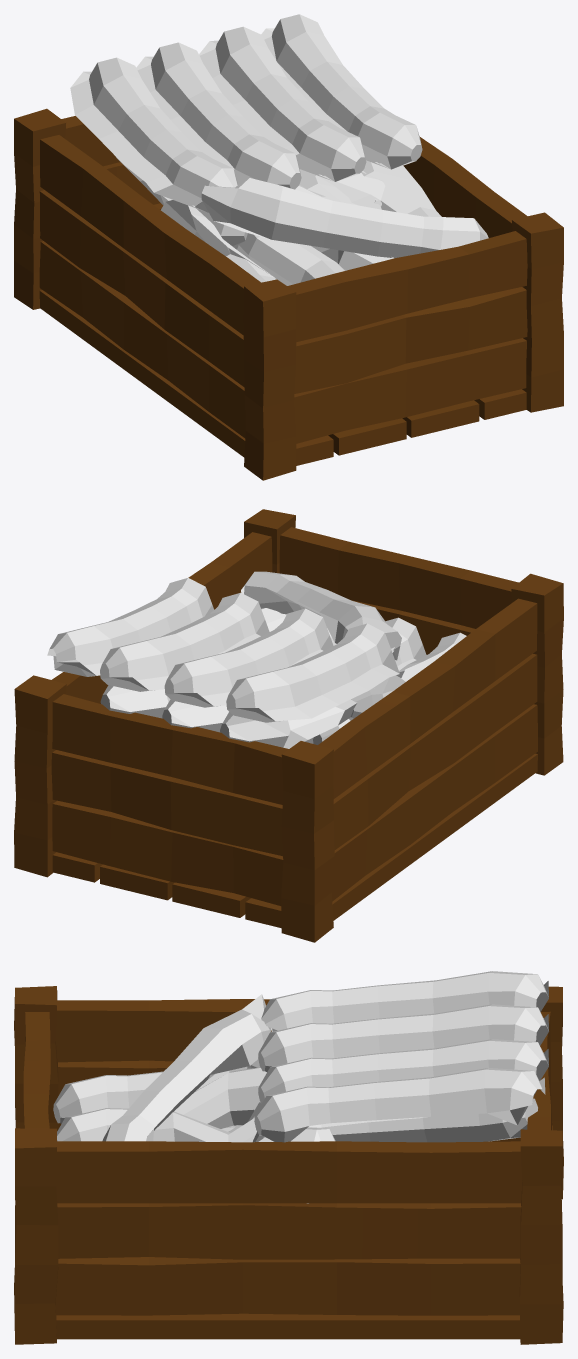
Rendered from agurkkasse.fbx.
3 views of the same model, one above another, from view 1: azimuth 30°, elevation 25°; view 2: azimuth 150°, elevation 25°; view 3: azimuth 270°, elevation 25° (orthographic). The views are drawn at different scales.
Parts seen in each view (by area): view 1: Cylinder, Cube.022, Cube.011, Cube.012, Cube.013, Cube.021, Cube.020, Cube.014, Cube.004, Cube.006, Cube.003, Cube.010 (+5 smaller); view 2: Cylinder, Cube.022, Cube.017, Cube.011, Cube.018, Cube.019, Cube.021, Cube.020, Cube.006, Cube.005, Cube.014, Cube.003 (+6 smaller); view 3: Cylinder, Cube.010, Cube.008, Cube.009, Cube.002, Cube.022, Cube.004, Cube.005, Cube.014, Cube.011, Cube.006, Cube.021 (+1 smaller).
Part boxes in pixels (x1,y1,x2,y2): Cylinder: (70,14,488,285); Cube.022: (40,135,260,335); Cube.011: (287,231,527,341); Cube.012: (294,287,527,393); Cube.013: (294,338,526,443); Cube.021: (39,190,244,387); Cube.020: (39,241,245,438); Cube.014: (243,279,296,480); Cube.004: (512,212,563,412); Cube.006: (14,108,65,309); Cube.003: (39,290,333,465); Cube.010: (403,137,527,237); Cylinder: (47,571,466,748); Cube.022: (318,598,537,798); Cube.017: (52,694,288,804); Cube.011: (279,527,518,628); Cube.018: (51,750,282,856); Cube.019: (52,800,283,905); Cube.021: (333,654,537,849); Cube.020: (331,704,537,901); Cube.006: (281,741,334,942); Cube.005: (14,675,66,877); Cube.014: (511,573,563,775); Cube.003: (245,753,537,928); Cylinder: (53,971,548,1203); Cube.010: (56,1141,522,1203); Cube.008: (55,1257,520,1315); Cube.009: (57,1203,521,1259); Cube.002: (56,1313,520,1339); Cube.022: (55,999,271,1062); Cube.004: (14,1128,58,1344); Cube.005: (519,1129,563,1344); Cube.014: (14,986,58,1199); Cube.011: (23,1012,50,1128); Cube.006: (520,986,563,1199); Cube.021: (58,1060,173,1095).
Size of the model in its own units: 465 by 343 by 667.
